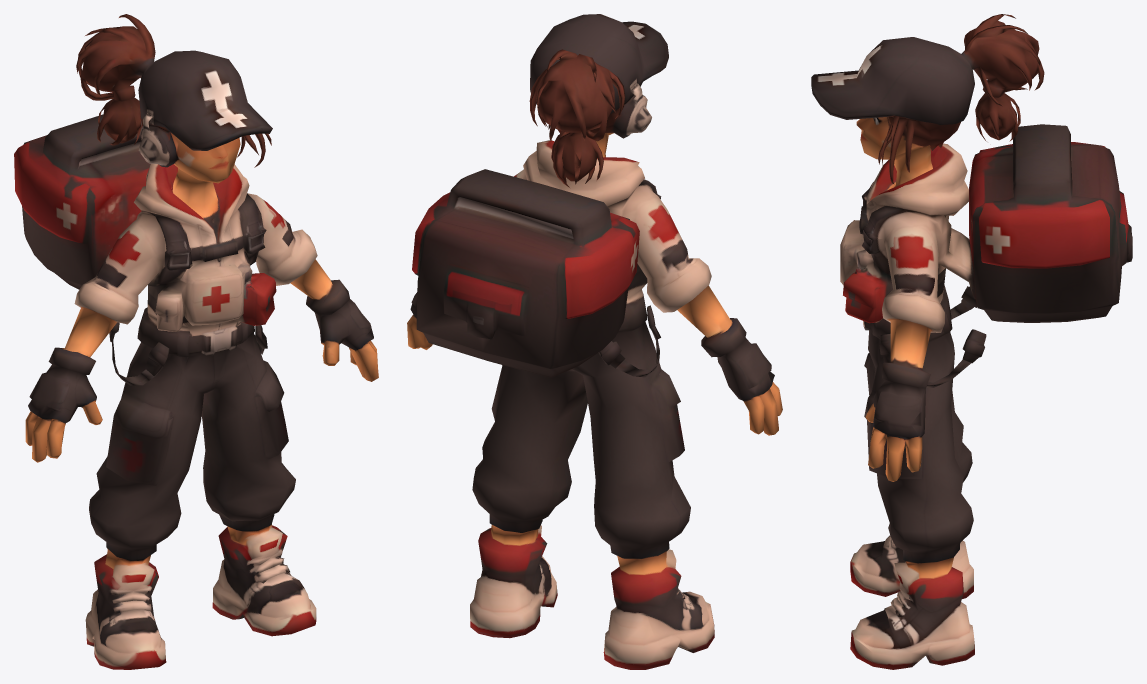
Rendered from medic.glb.
The picture shows the model from 3 angles, left to right: view 1: azimuth 30°, elevation 25°; view 2: azimuth 150°, elevation 25°; view 3: azimuth 270°, elevation 25°; orthographic projection. The views are drawn at different scales.
Parts seen in each view (by area): view 1: tripo_node_025ed547-f872-4aa8-9dd8-32021fbe57be; view 2: tripo_node_025ed547-f872-4aa8-9dd8-32021fbe57be; view 3: tripo_node_025ed547-f872-4aa8-9dd8-32021fbe57be.
Boxes of the visible parts, x1,y1,x2,y2 form: tripo_node_025ed547-f872-4aa8-9dd8-32021fbe57be: [14, 14, 378, 669]; tripo_node_025ed547-f872-4aa8-9dd8-32021fbe57be: [407, 14, 782, 669]; tripo_node_025ed547-f872-4aa8-9dd8-32021fbe57be: [811, 14, 1132, 669].
Bounding box in the file's own units: 0.6113 × 0.998 × 0.498.
Materials: 1 (1 with a texture image).
